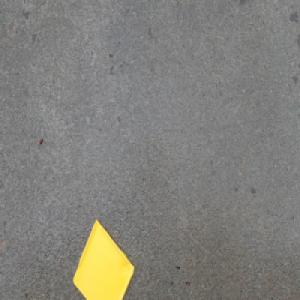PlasticPart: (72, 219, 136, 300)
